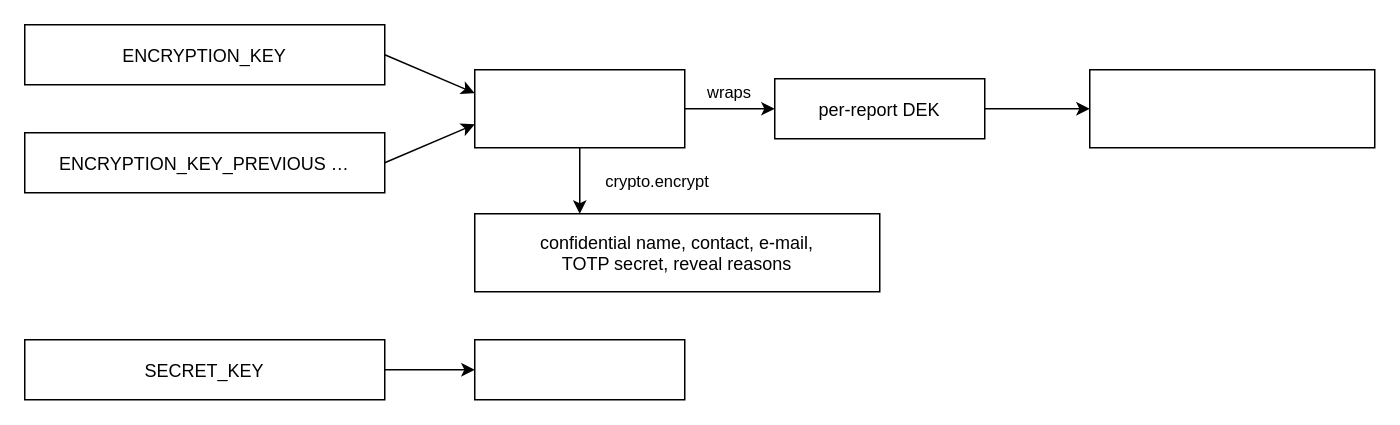
This 1400x425 diagram has some shape labels left out. The centre of each missing label's shape, as x and y in pixels:
"description, messages, notes, attachments" goes at pixel 1231 108.
"JWT only" goes at pixel 579 369.
"MultiFernet current key first" goes at pixel 579 108.
